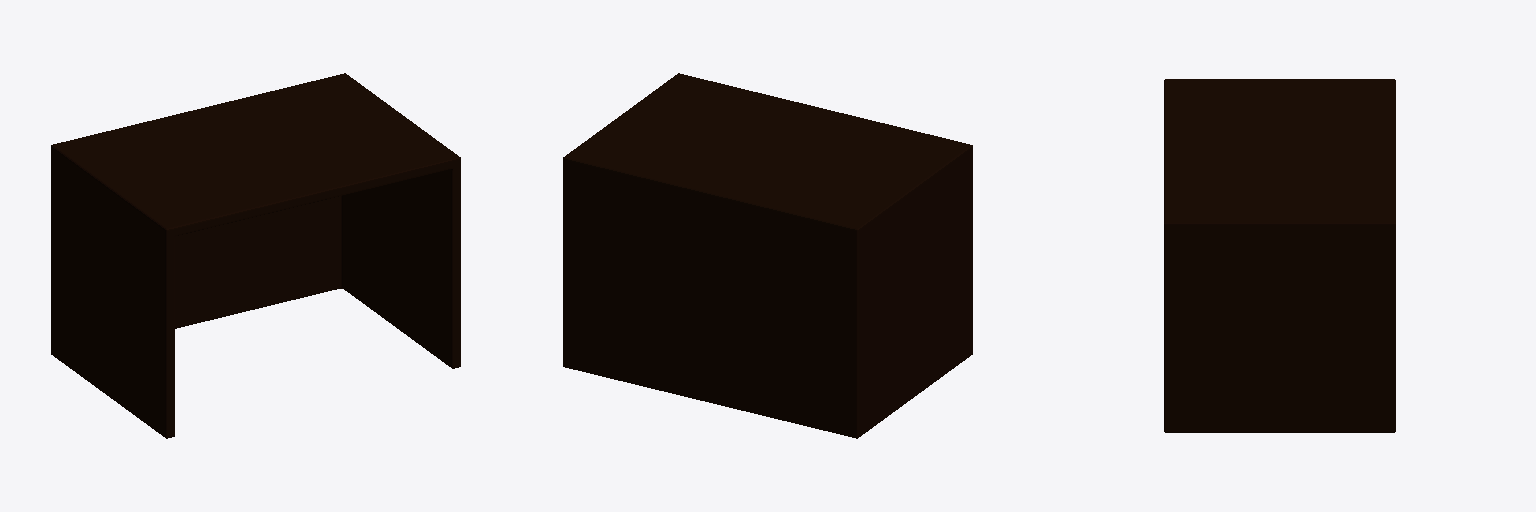
File: desk1.obj
3 renders of one model, left to right at view 1: azimuth 30°, elevation 25°; view 2: azimuth 150°, elevation 25°; view 3: azimuth 270°, elevation 25°, orthographic.
Parts seen in each view (by area): view 1: BasicDesk; view 2: BasicDesk; view 3: BasicDesk.
Boxes of the visible parts, <box> form: BasicDesk: <box>51,73,460,438</box>; BasicDesk: <box>563,73,972,438</box>; BasicDesk: <box>1164,79,1395,432</box>.
Bounding box in the file's own units: 2.32 × 1.58 × 1.58.